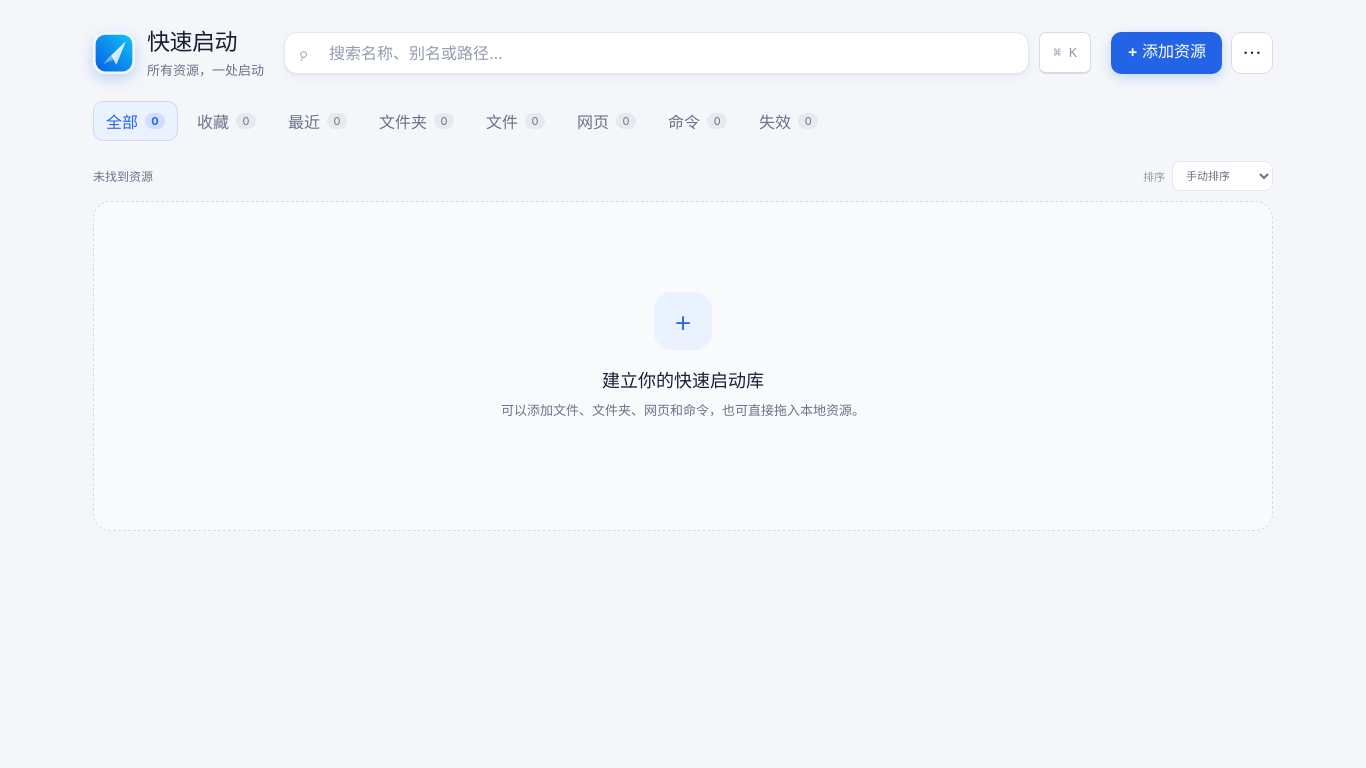
Test: 快速启动首页 › 命令启动失败后在系统通知中显示原因
Click the button labelled "+ 添加资源" at {"x": 1167, "y": 53}, box [1111,32,1222,74]
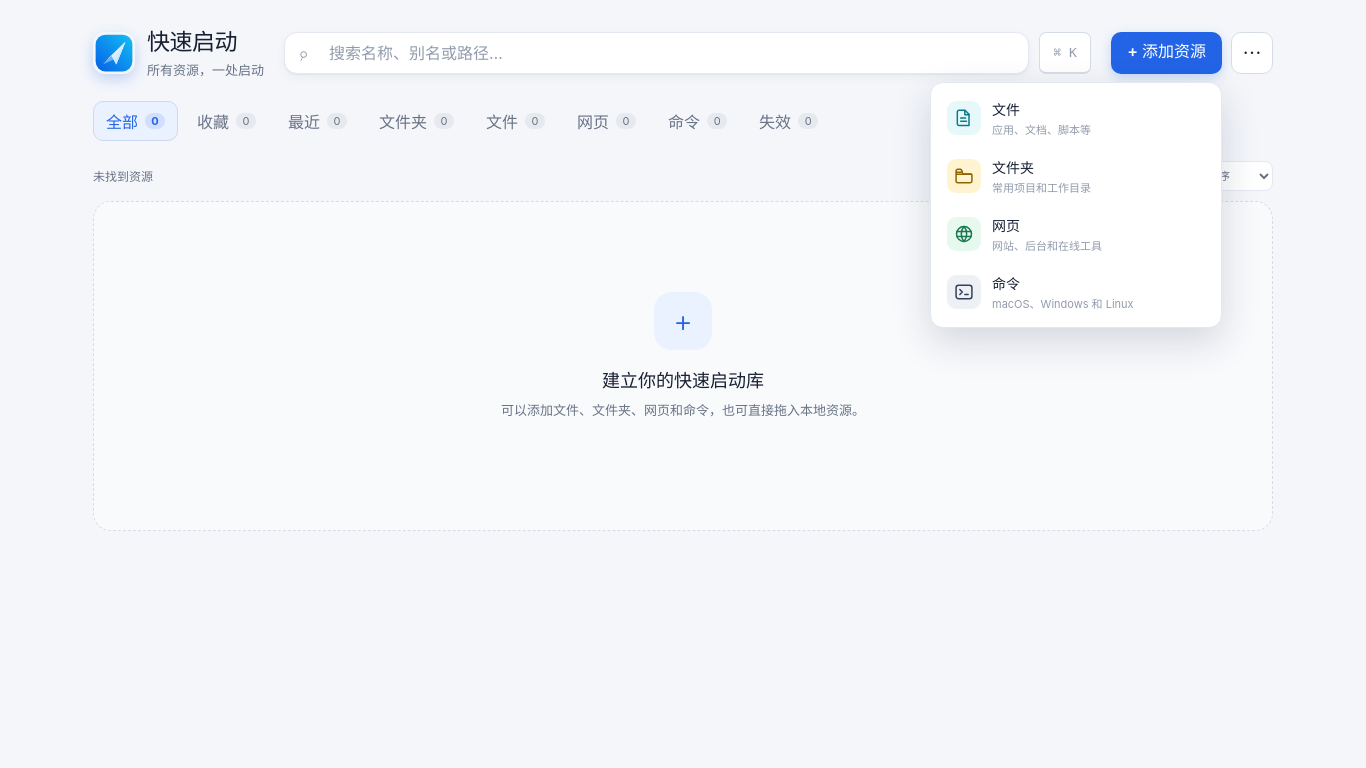
Click the button with aria-label "添加命令" at {"x": 964, "y": 292}, box [937,263,1215,321]
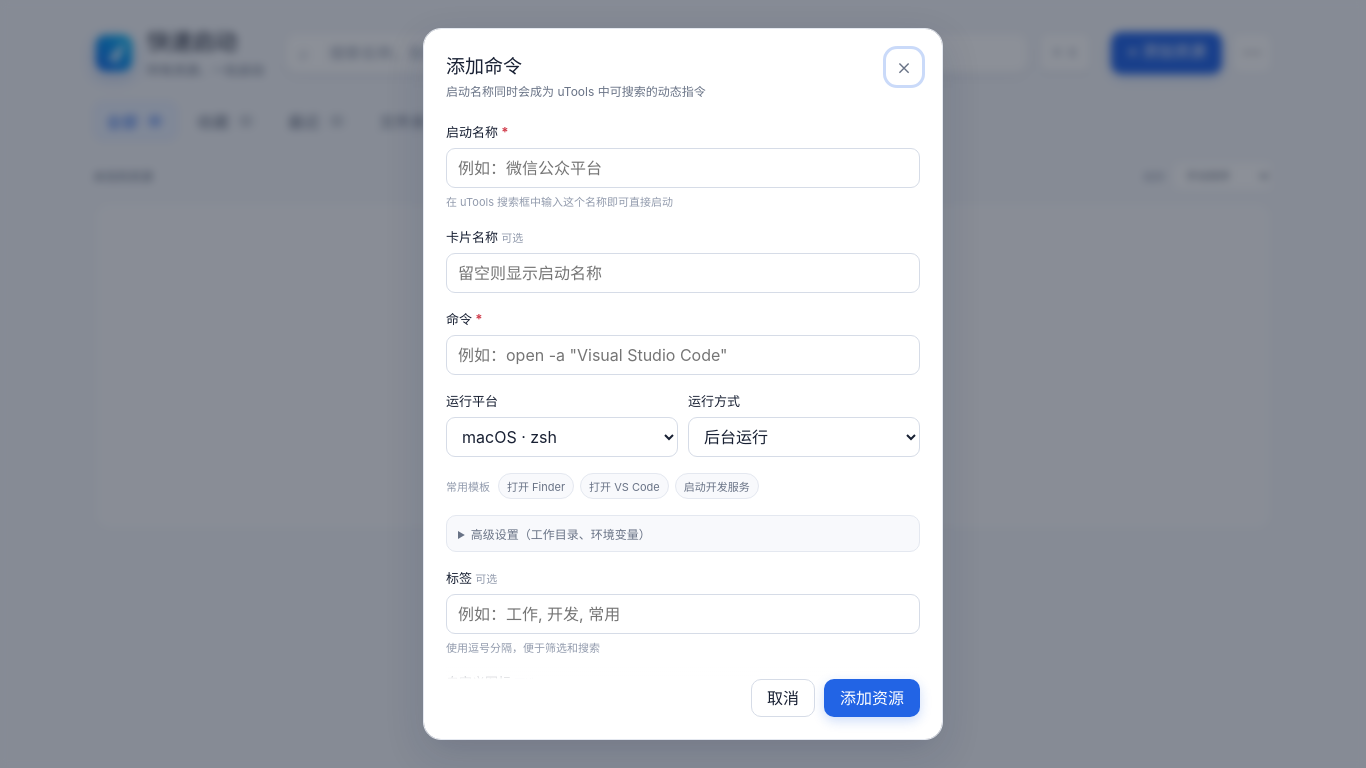
Type "失败命令" into the field labelled "启动名称 * 在 uTools 搜索框中输入这个名称即可直接启动" at {"x": 683, "y": 168}, box [446,148,920,188]
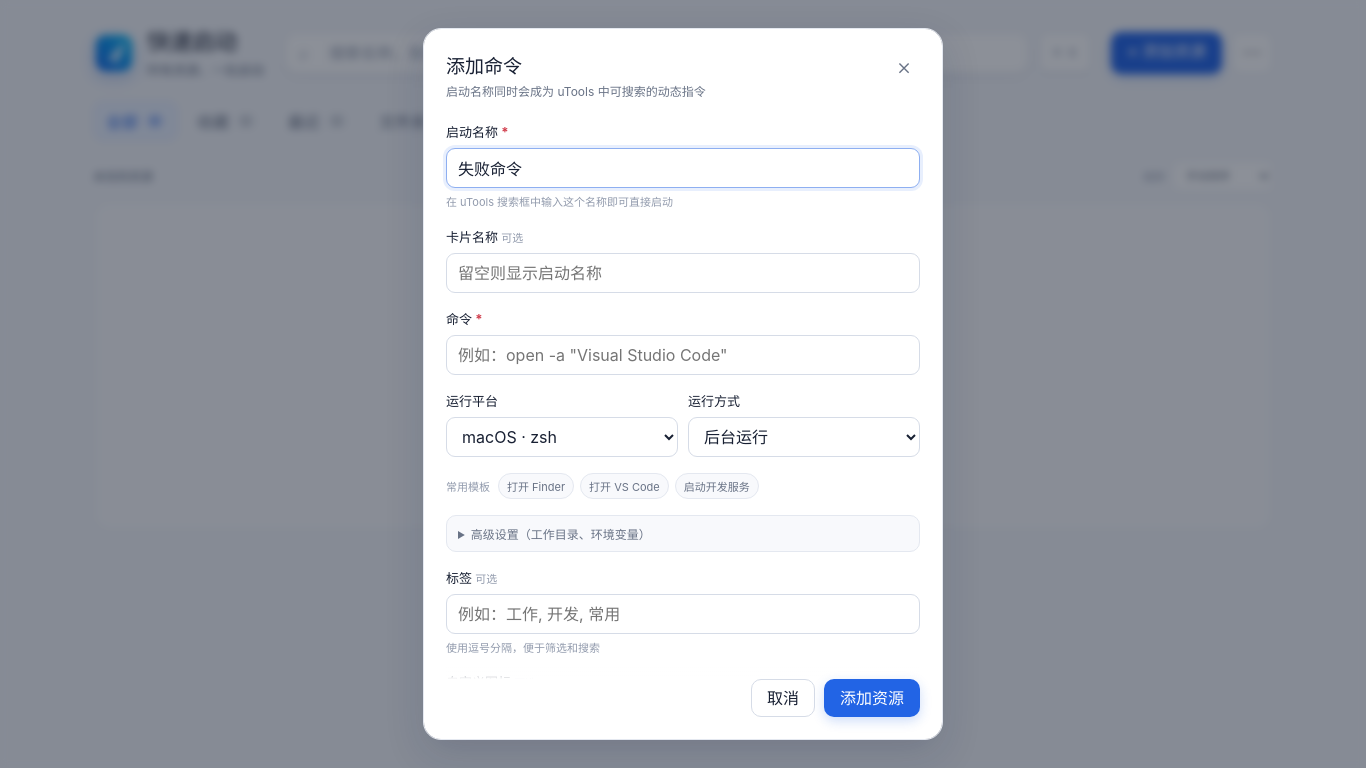
Type "exit 1" into the field named "命令" at {"x": 683, "y": 354}, box [446,334,920,374]
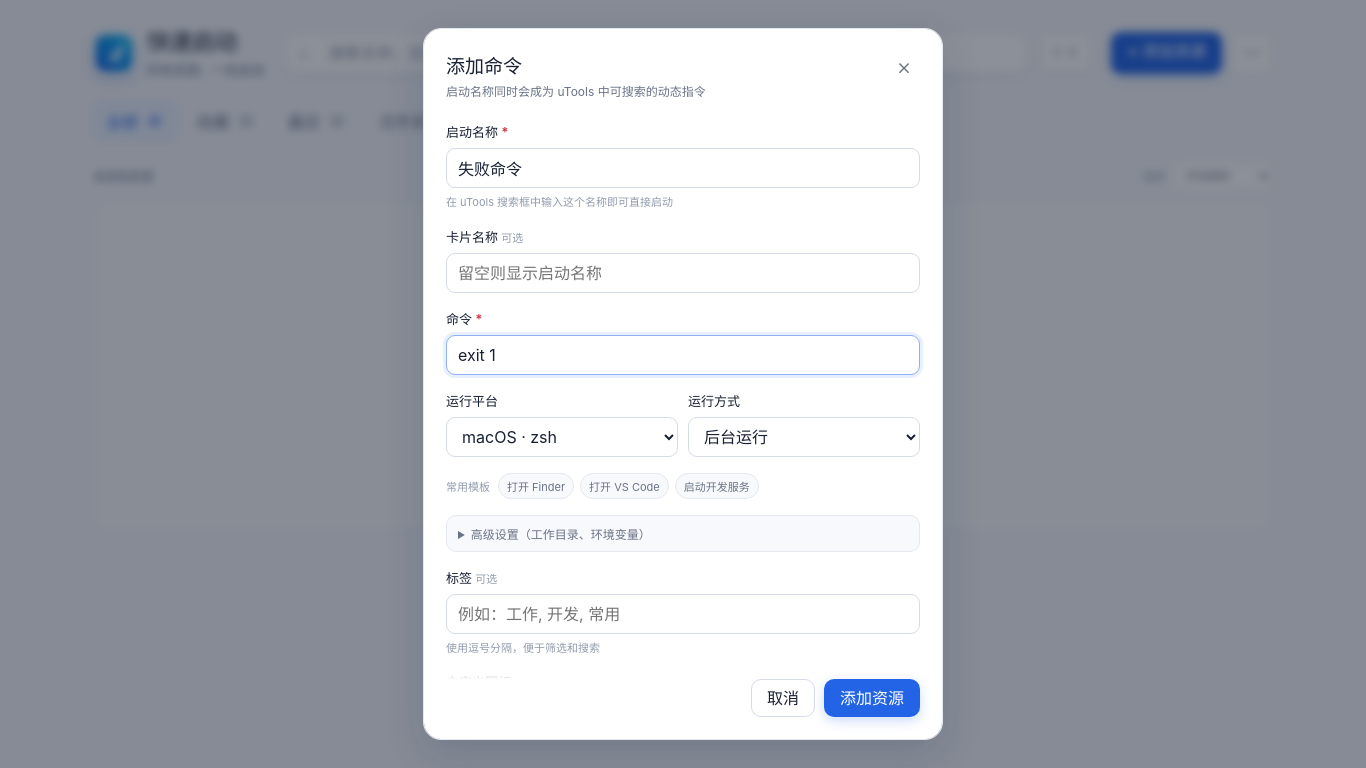
Click the button "添加资源" at {"x": 872, "y": 698}, box [824,679,920,717]
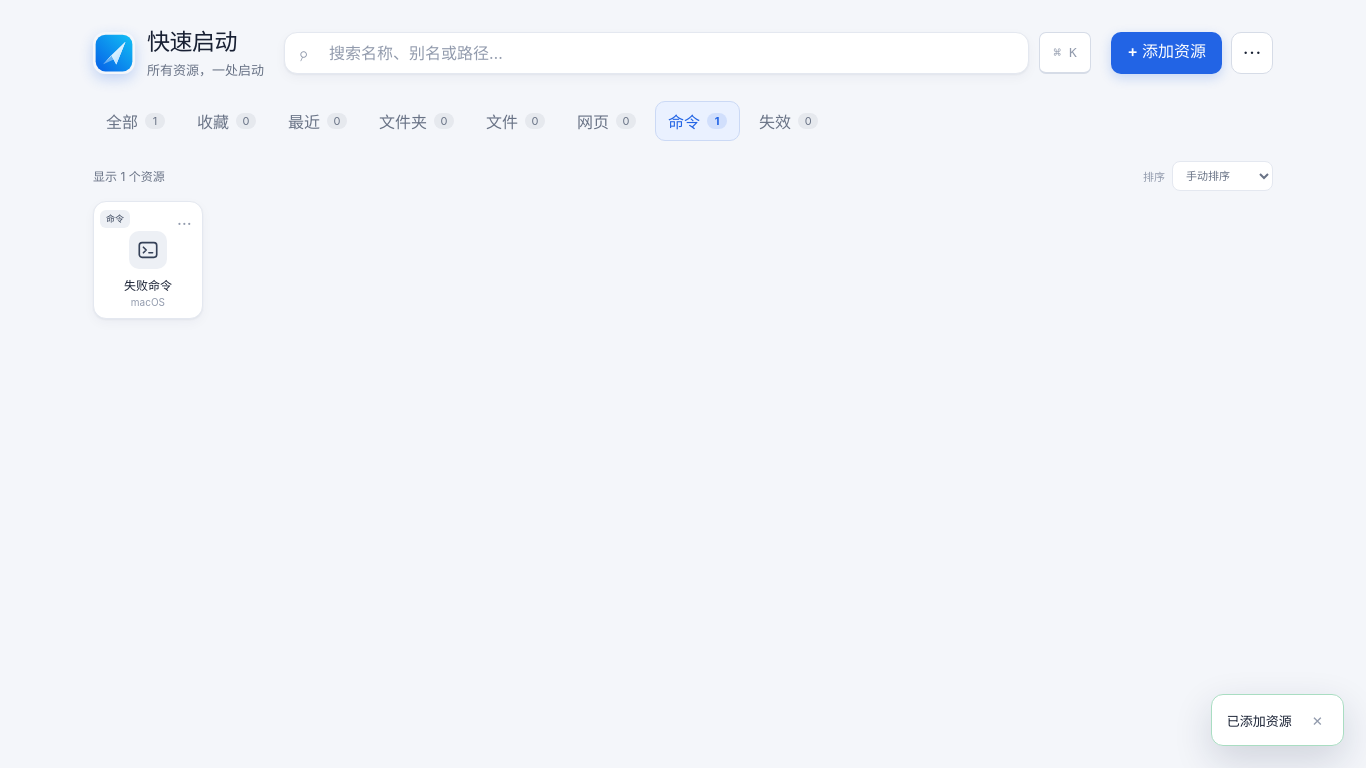
Click the button with aria-label "启动失败命令" at {"x": 148, "y": 260}, box [94,202,202,318]
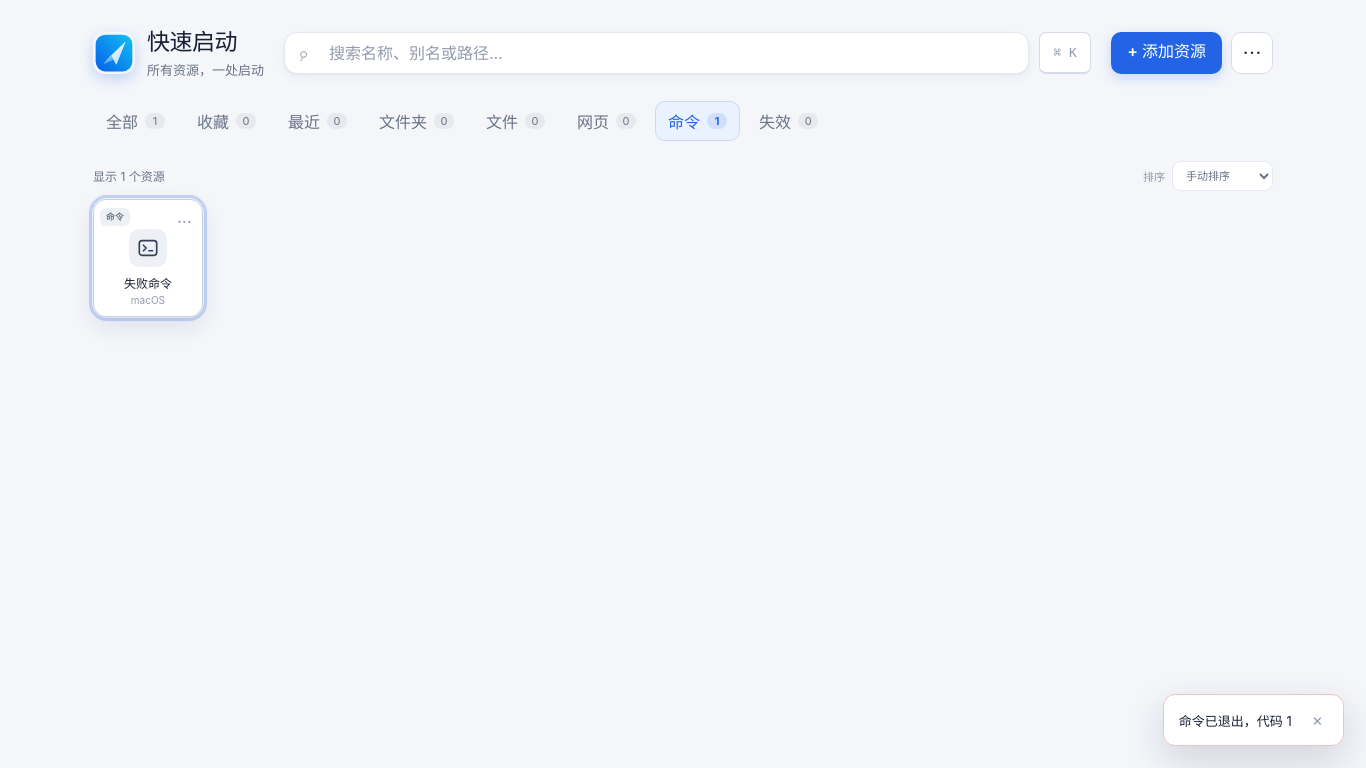
Expected: the message shows "命令已退出，代码 1", [1179,712,1292,728]
